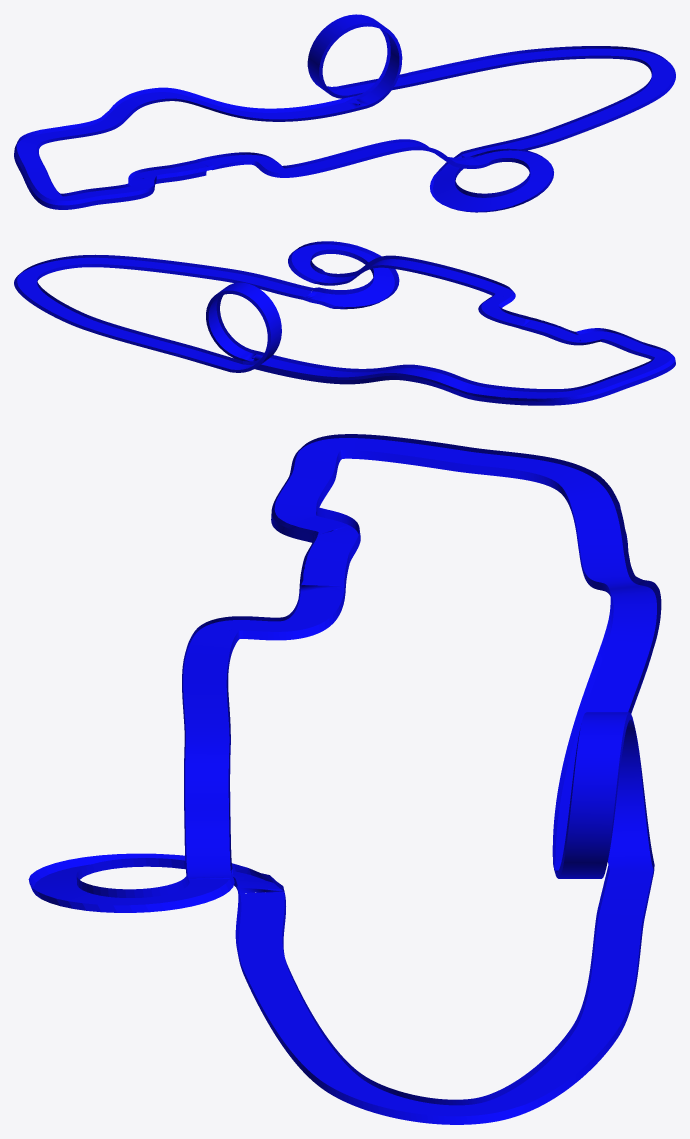
Rendered from SpaceTrackFinal.FBX.
The picture shows the model from 3 angles, top to bottom: view 1: azimuth 30°, elevation 25°; view 2: azimuth 150°, elevation 25°; view 3: azimuth 270°, elevation 25°; orthographic projection. The views are drawn at different scales.
Visible parts, largest first — view 1: Track, TrackBorder; view 2: Track, TrackBorder; view 3: Track, TrackBorder.
Part boxes in pixels (x1,y1,x2,y2): Track: [16, 14, 673, 211]; TrackBorder: [14, 23, 675, 212]; Track: [17, 244, 671, 398]; TrackBorder: [14, 241, 675, 405]; Track: [33, 438, 656, 1116]; TrackBorder: [28, 434, 661, 1124].
Size of the model in its own units: 3115 by 408 by 1368.
